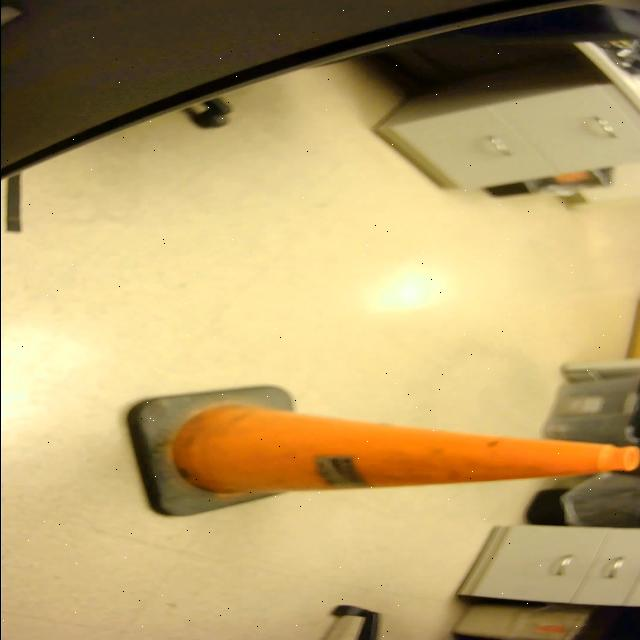traffic cone: (111, 381, 640, 523)
